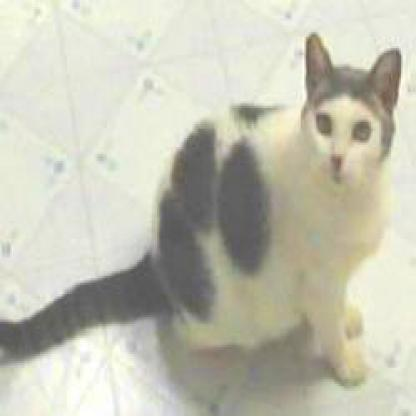cat: (141, 21, 384, 360)
